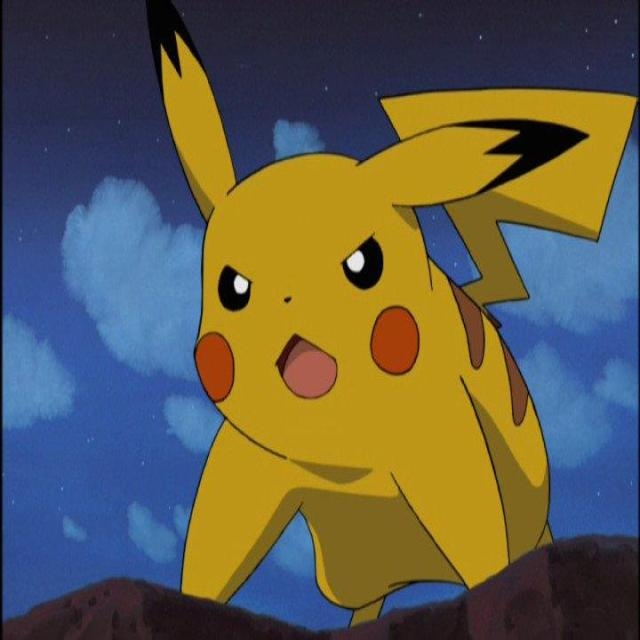pikachu: (144, 0, 636, 604)
